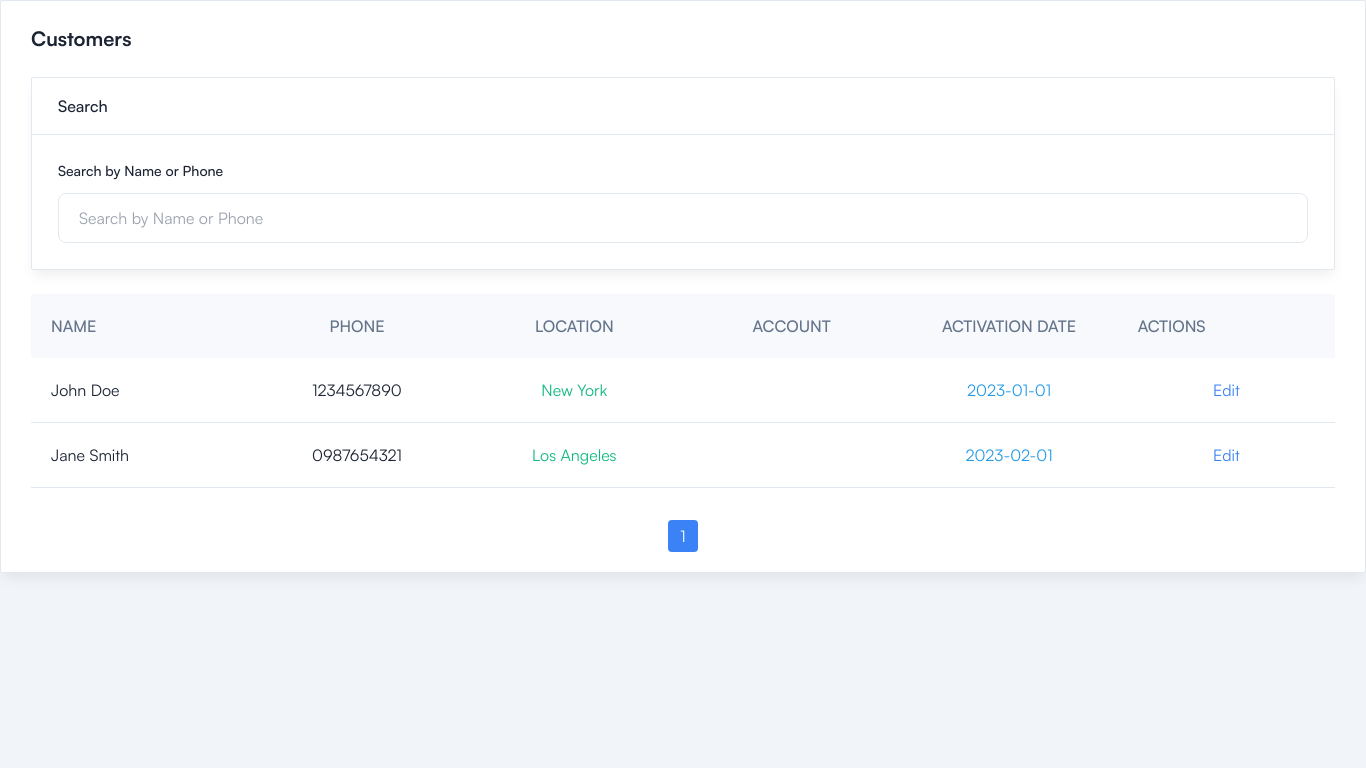
Test: CustomersTable › filters customers based on search query
The width and height of the screenshot is (1366, 768).
Type "John" into the field.
click(683, 218); type("John")  # box [58,193,1308,243]
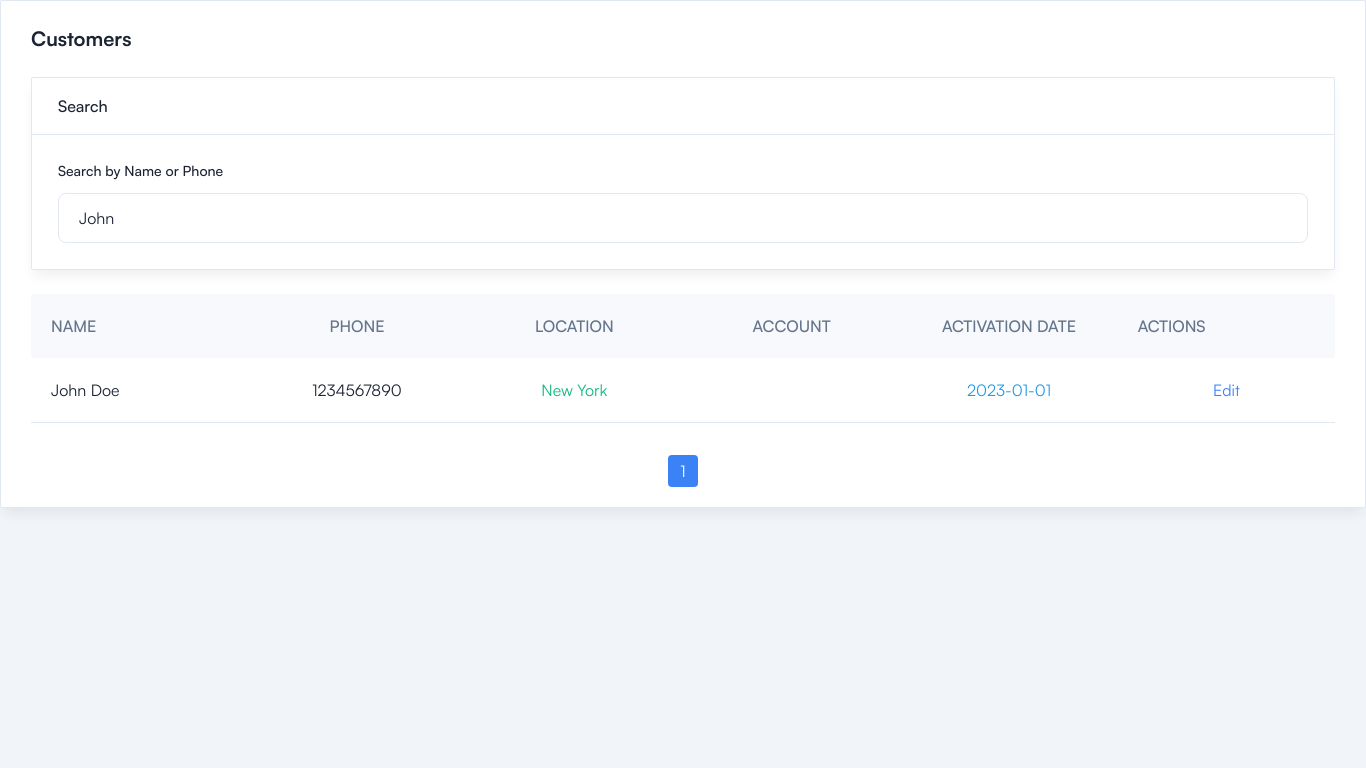
Check: the text "John Doe" is shown, box [51,378,120,402]
Check: the text "Jane Smith" is gone
